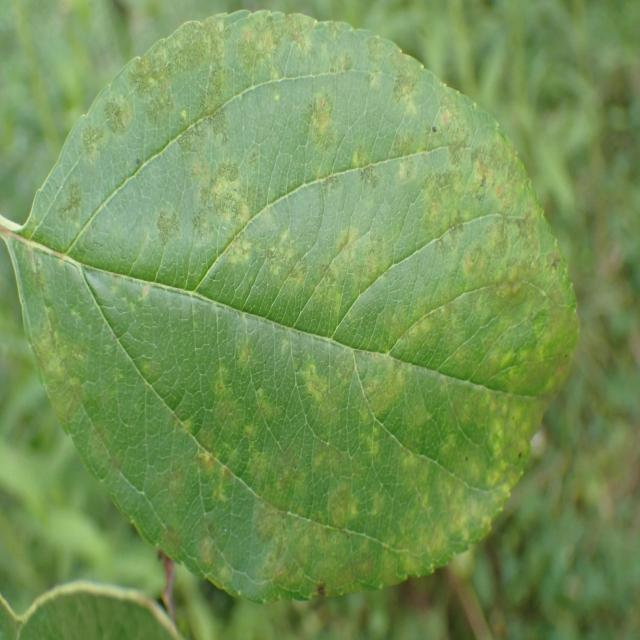scab: (28, 0, 568, 586)
